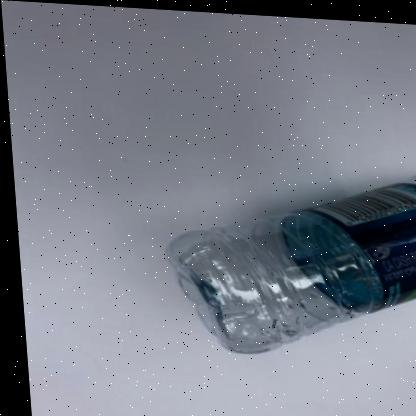Plastic: (163, 170, 416, 350)
